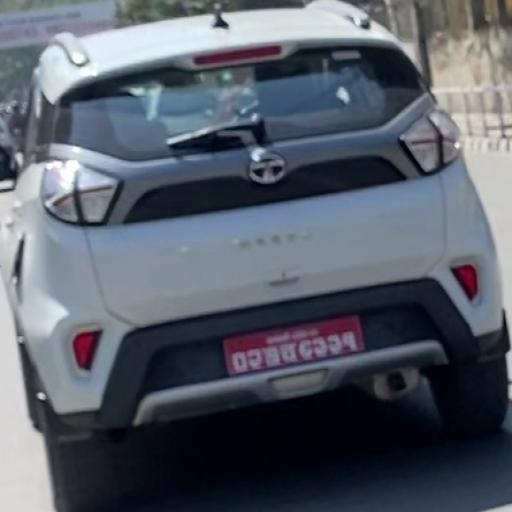license_plate: (219, 315, 371, 381)
